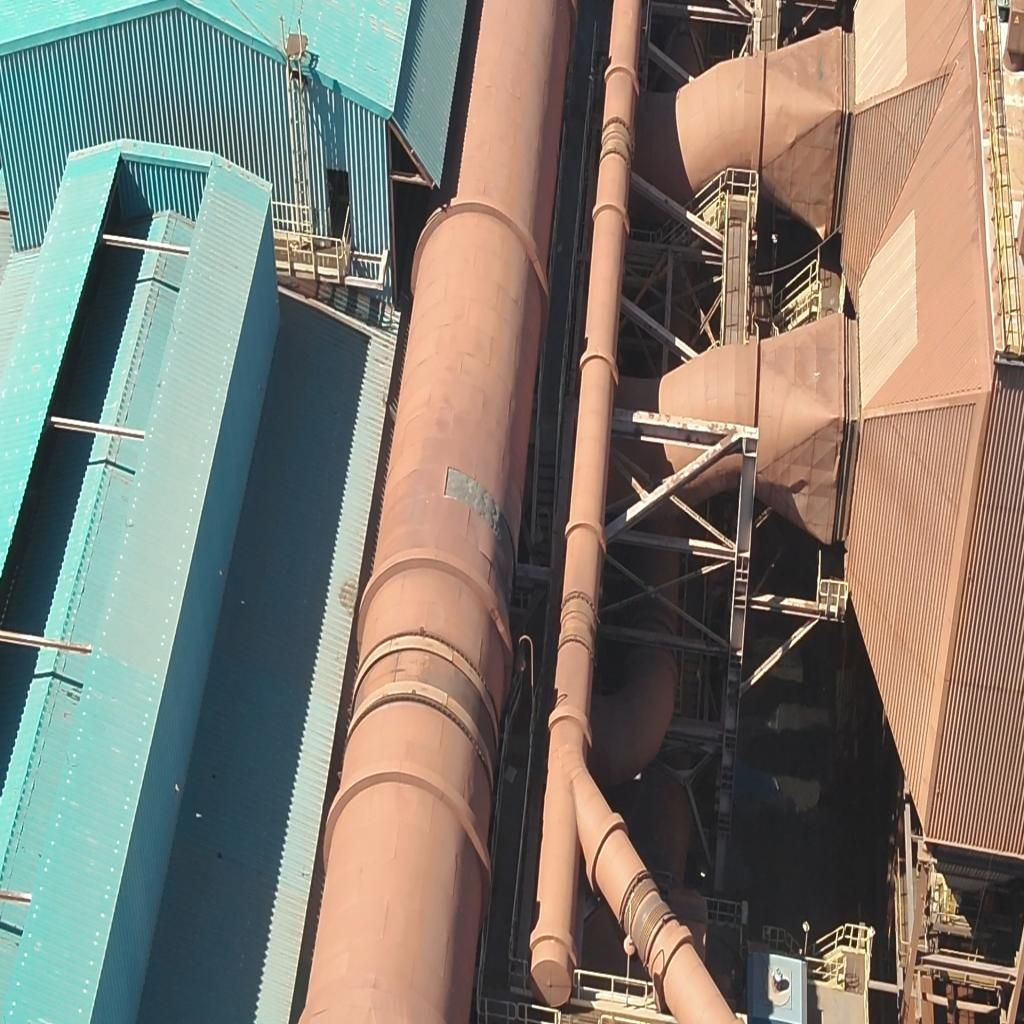Failures: (435, 450, 520, 582)
